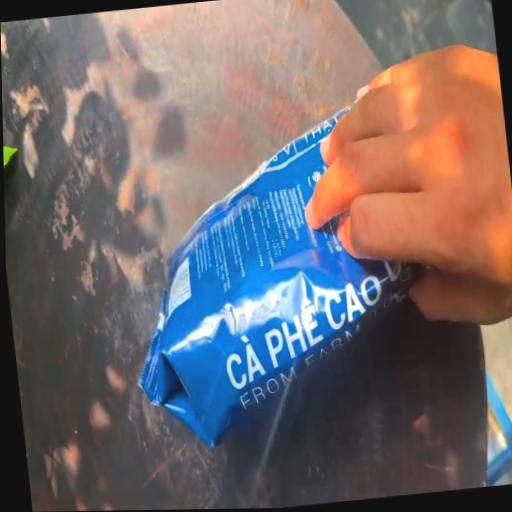cafe_hat: (139, 106, 414, 446)
